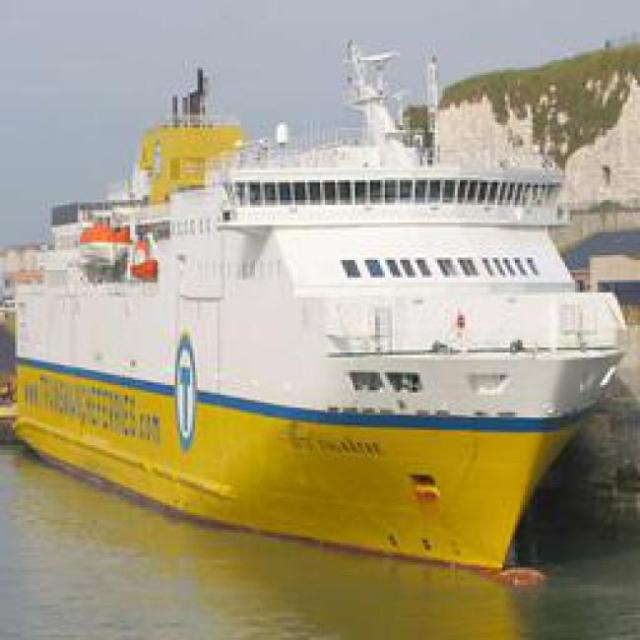boat: (31, 149, 602, 577)
